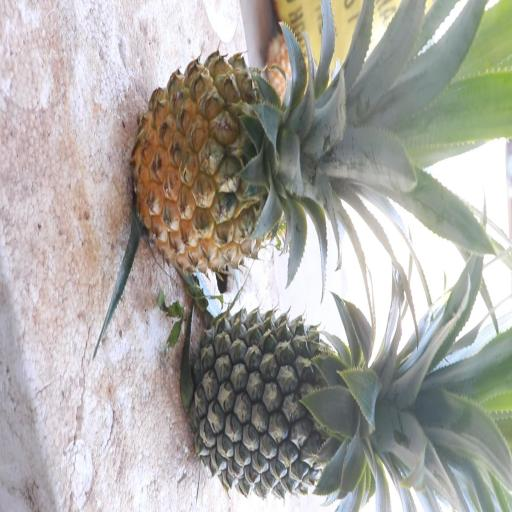Pineapple - v8 v1: (133, 56, 413, 287)
